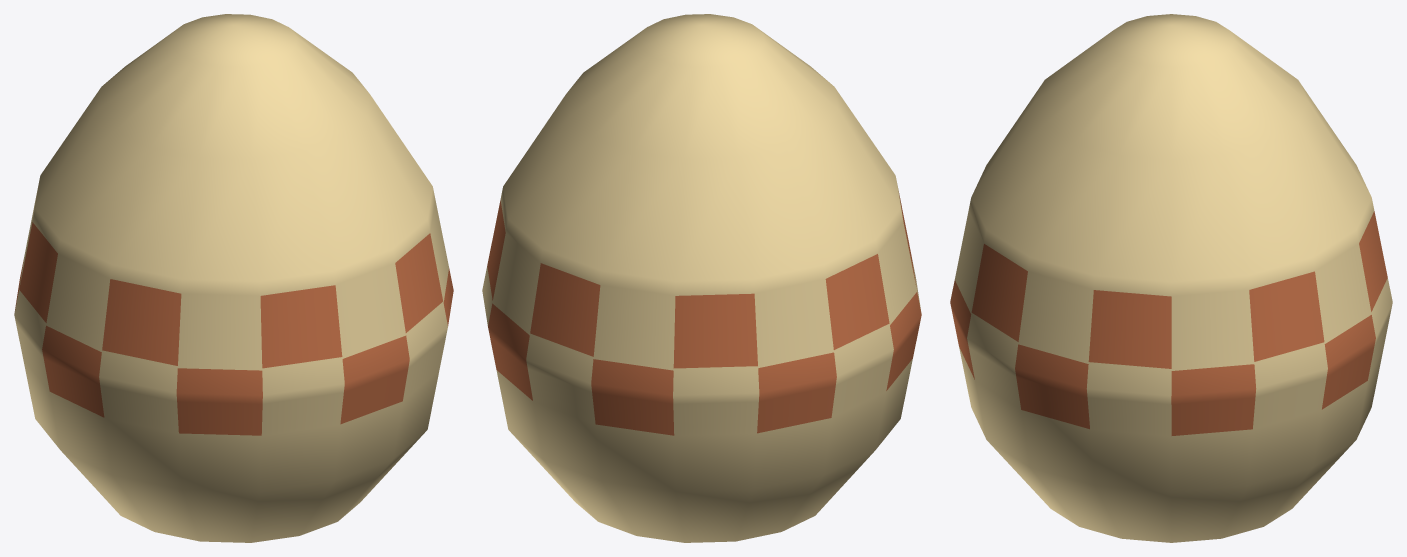
The model's file is DesertEgg.fbx.
3 views of the same model, side by side, from view 1: azimuth 30°, elevation 25°; view 2: azimuth 150°, elevation 25°; view 3: azimuth 270°, elevation 25° (orthographic).
Parts seen in each view (by area): view 1: DesertEgg; view 2: DesertEgg; view 3: DesertEgg.
Part boxes in pixels (box(x1,y1,x2,y2)): DesertEgg: box(14, 14, 453, 542); DesertEgg: box(482, 14, 921, 542); DesertEgg: box(950, 14, 1392, 542).
Size of the model in its own units: 2.1 by 2.5 by 2.1.
Materials: 1 (1 with a texture image).
